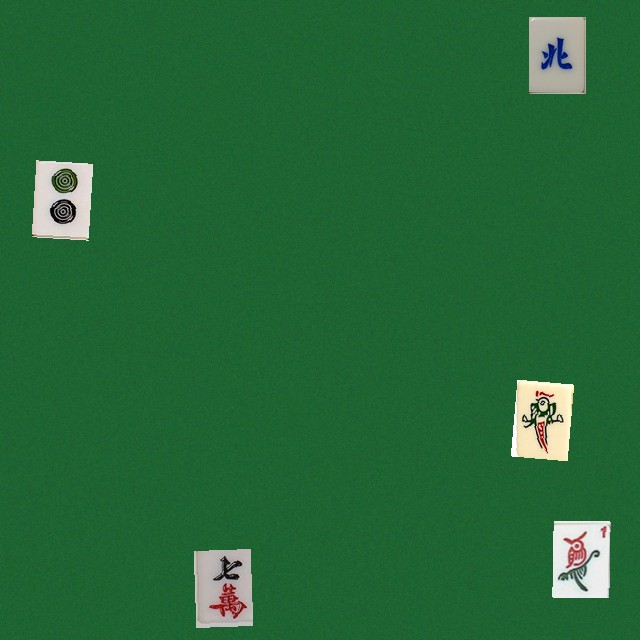tile: (528, 16, 585, 93), (193, 549, 250, 626), (31, 160, 88, 237), (510, 379, 567, 456), (552, 520, 609, 597)
